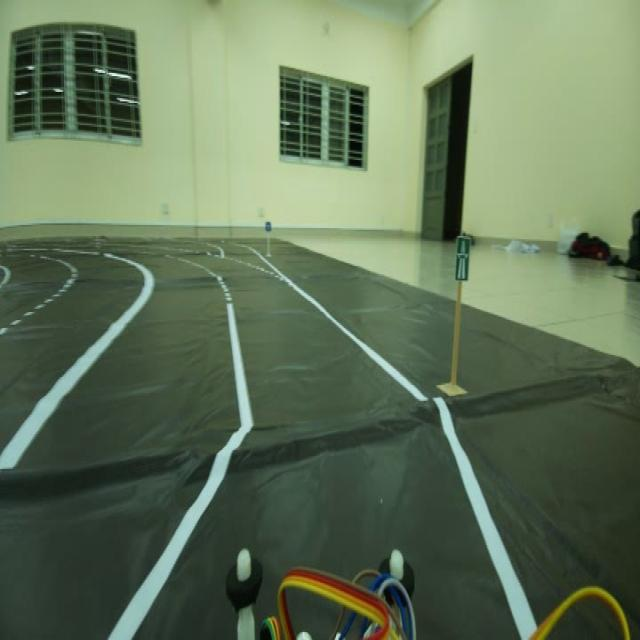highway_entry: (451, 223, 474, 287)
